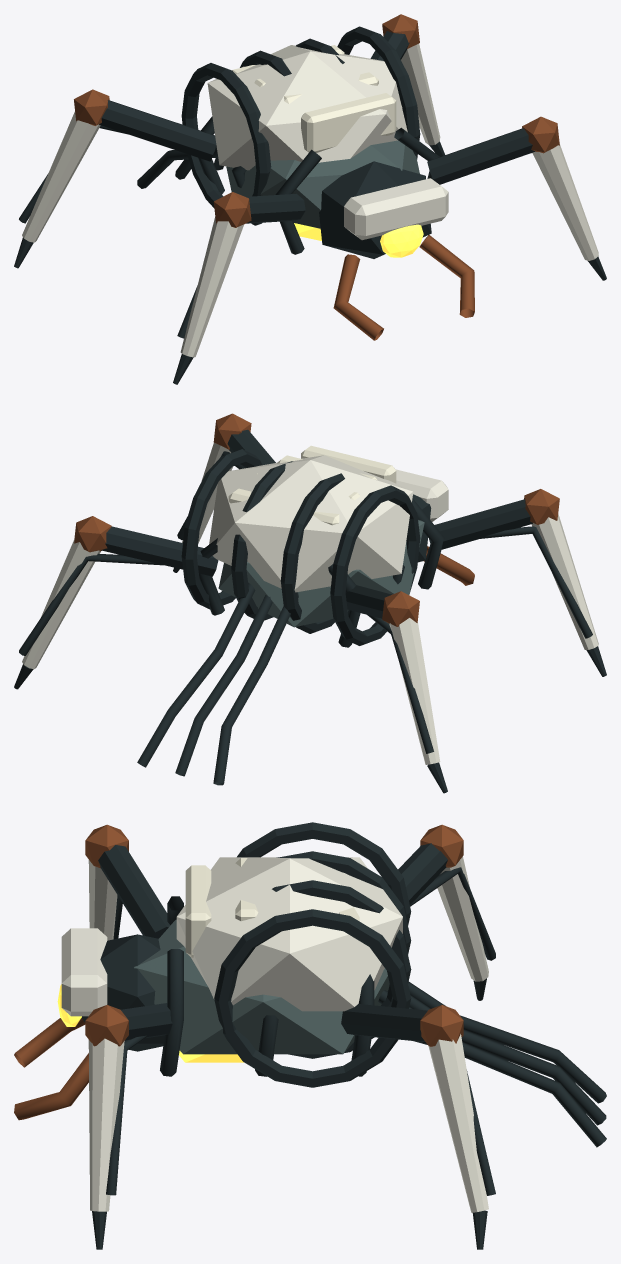
File: enemy_crawler.glb
3 renders of one model, top to bottom at view 1: azimuth 30°, elevation 25°; view 2: azimuth 150°, elevation 25°; view 3: azimuth 270°, elevation 25°, orthographic. The views are drawn at different scales.
Visible parts, largest first — view 1: body.001_mesh, head.001_mesh, leg_L_0_mesh, spool_mesh, leg_L_2_mesh, leg_R_2_mesh, leg_R_0_mesh, tail_mesh; view 2: body.001_mesh, spool_mesh, leg_L_2_mesh, leg_R_0_mesh, tail_mesh, leg_L_0_mesh, head.001_mesh, leg_R_2_mesh; view 3: body.001_mesh, spool_mesh, head.001_mesh, leg_R_0_mesh, leg_L_2_mesh, leg_R_2_mesh, tail_mesh, leg_L_0_mesh.
Boxes of the visible parts, box(x1,y1,x2,y2) form: body.001_mesh: box(198, 45, 419, 254); head.001_mesh: box(319, 161, 474, 340); leg_L_0_mesh: box(14, 89, 216, 268); spool_mesh: box(181, 26, 420, 207); leg_L_2_mesh: box(173, 127, 439, 384); leg_R_2_mesh: box(427, 116, 606, 280); leg_R_0_mesh: box(370, 14, 444, 156); tail_mesh: box(137, 145, 223, 188); body.001_mesh: box(209, 445, 444, 647); spool_mesh: box(181, 449, 420, 645); leg_L_2_mesh: box(199, 489, 606, 676); leg_R_0_mesh: box(14, 516, 218, 689); tail_mesh: box(137, 582, 298, 785); leg_L_0_mesh: box(345, 585, 447, 793); head.001_mesh: box(395, 469, 474, 585); leg_R_2_mesh: box(173, 413, 275, 572); body.001_mesh: box(134, 857, 402, 1054); spool_mesh: box(214, 822, 411, 1087); head.001_mesh: box(14, 928, 164, 1120); leg_R_0_mesh: box(341, 1004, 495, 1249); leg_L_2_mesh: box(85, 824, 374, 1076); leg_R_2_mesh: box(85, 1003, 172, 1249); tail_mesh: box(378, 981, 606, 1147); leg_L_0_mesh: box(398, 824, 495, 1000).
Size of the model in its own units: 1.57 by 0.7737 by 1.56.
